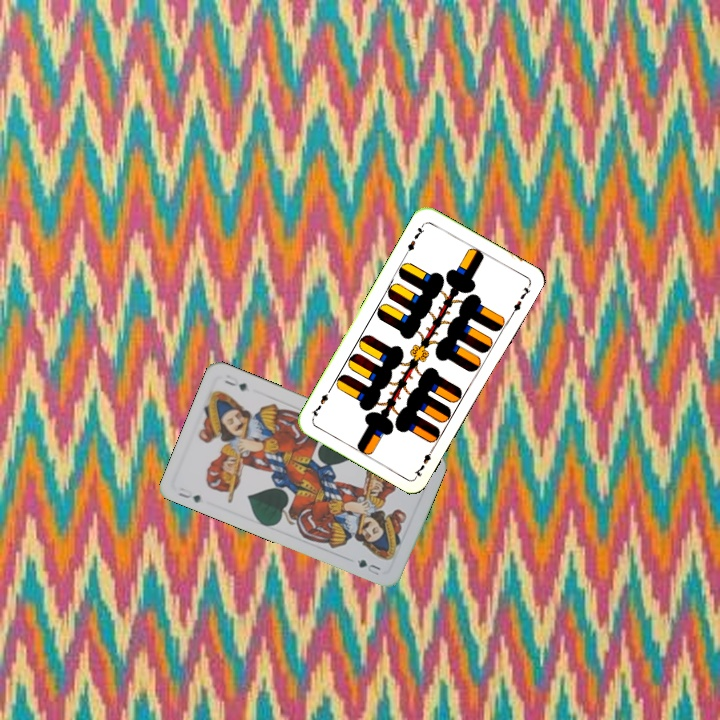E7: (410, 442, 437, 480), (402, 220, 427, 257)
GU: (174, 483, 203, 505)
